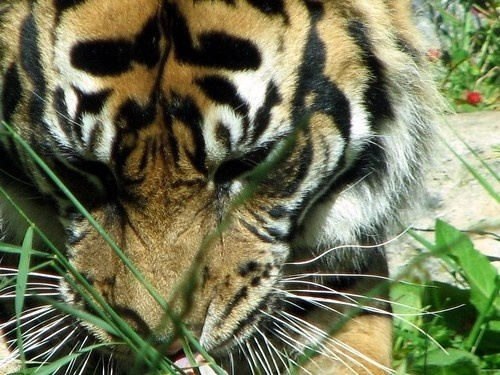tigre: (1, 2, 448, 374)
